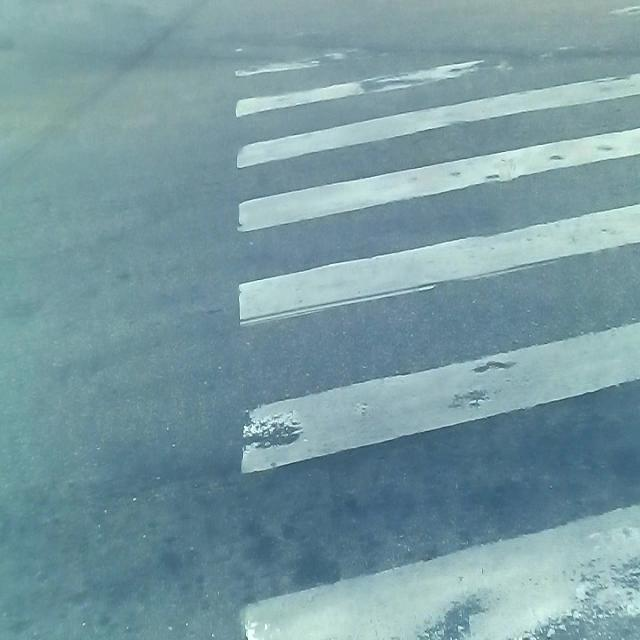crosswalk: (232, 0, 640, 640)
